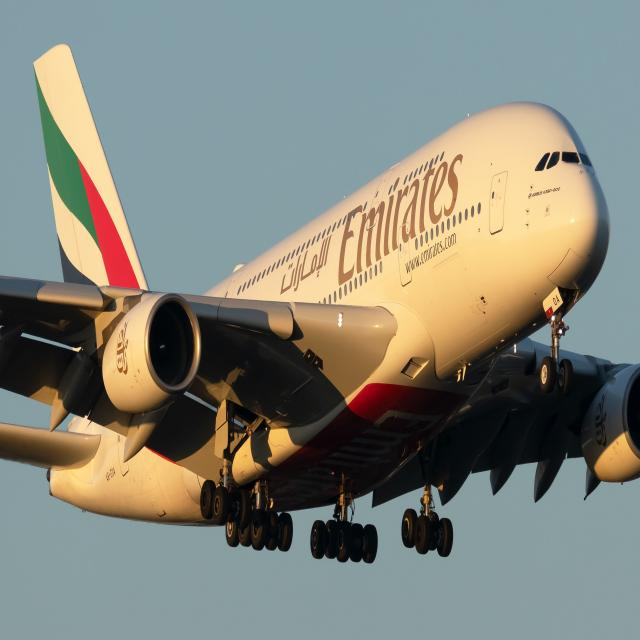A380: (7, 44, 640, 556)
